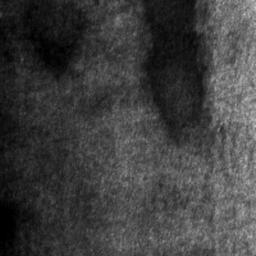Patches: (143, 0, 206, 145), (27, 0, 92, 79)
